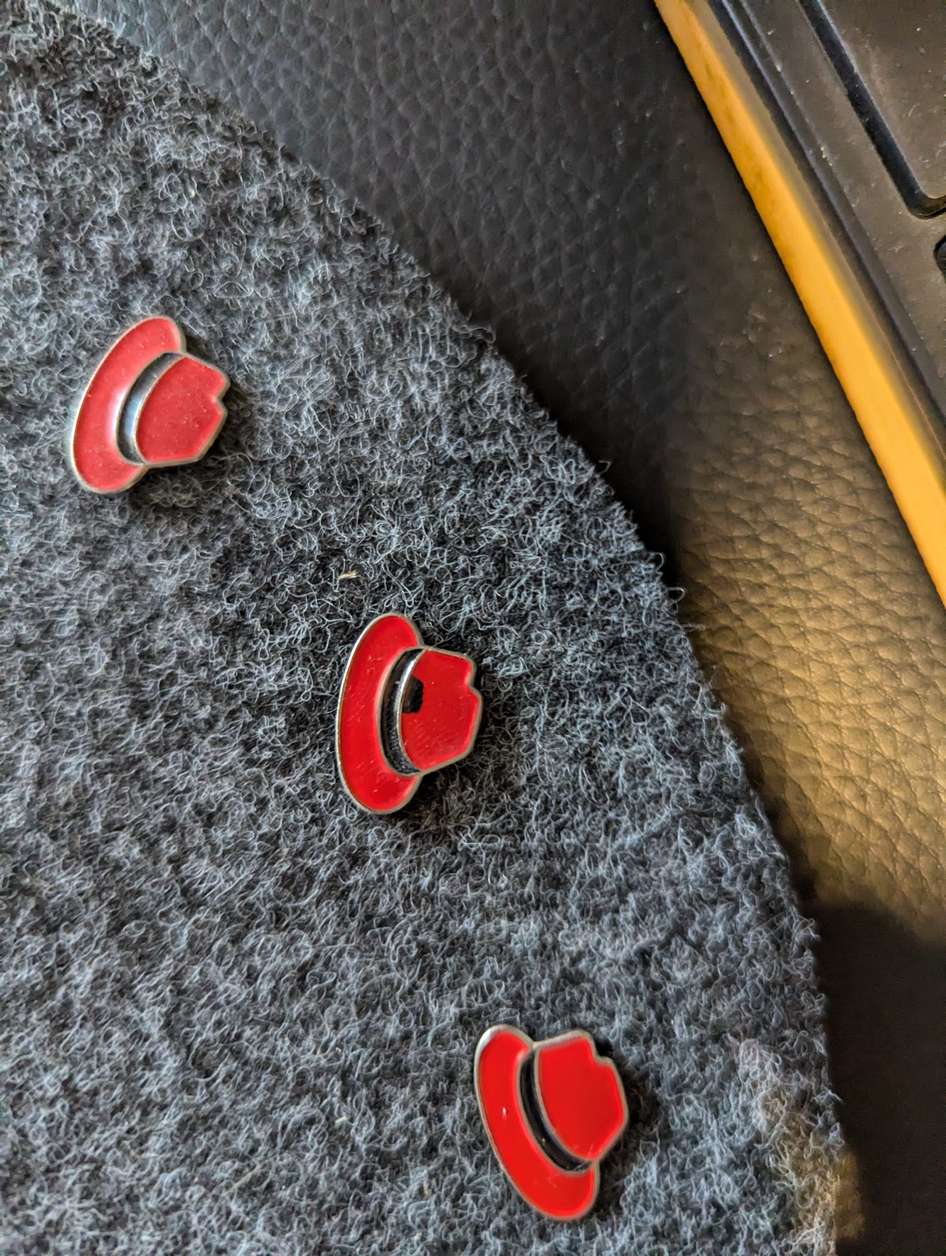Red-Hat: (442, 999, 656, 1238), (36, 279, 239, 509), (317, 589, 495, 838)
Scratch: (390, 657, 433, 728)
